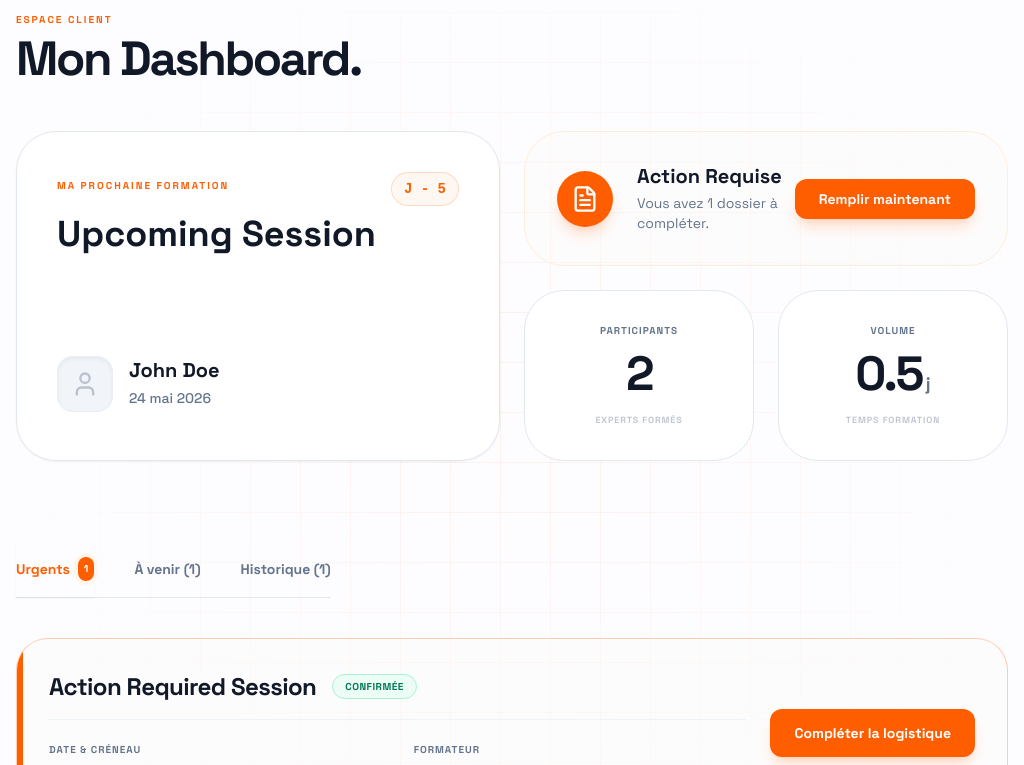
it: ClientDashboard › toggles tabs correctly
The image size is (1024, 765).
Switch to Upcoming tab
Click the tab "À venir (1)" at (168, 568), box [134,542,201,594]
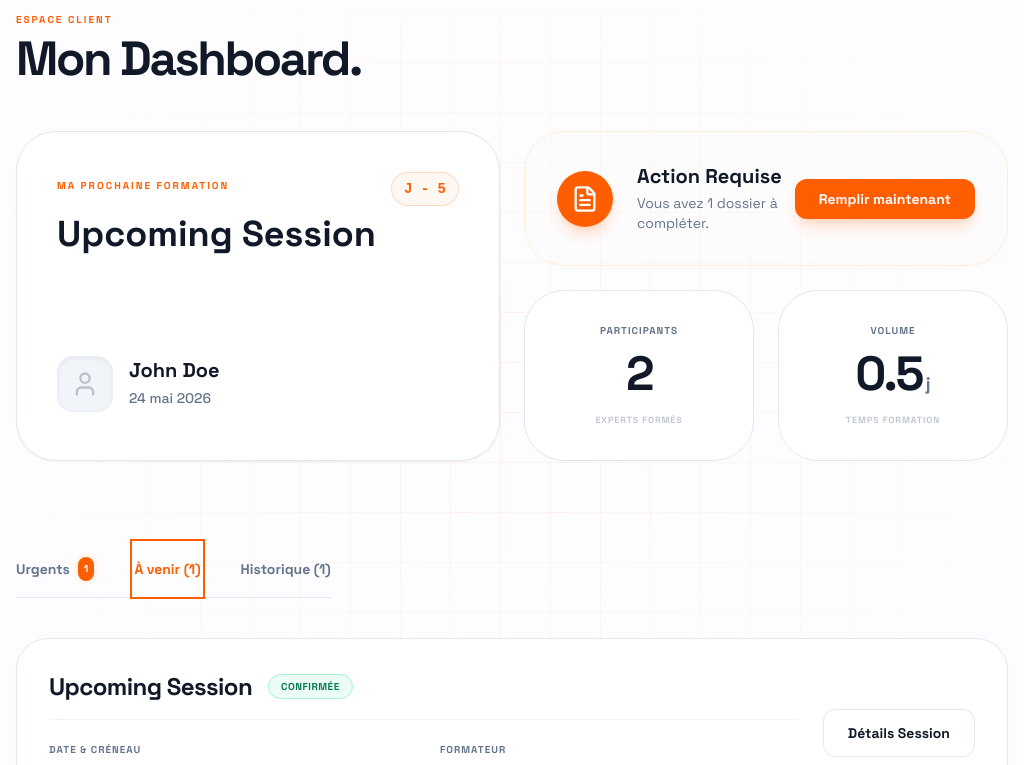
Check: the heading "Upcoming Session" below "Ma prochaine formation" is shown, box [57,211,376,257]
Switch to History tab
Click the tab "Historique (1)" at (286, 568), box [241,542,331,594]
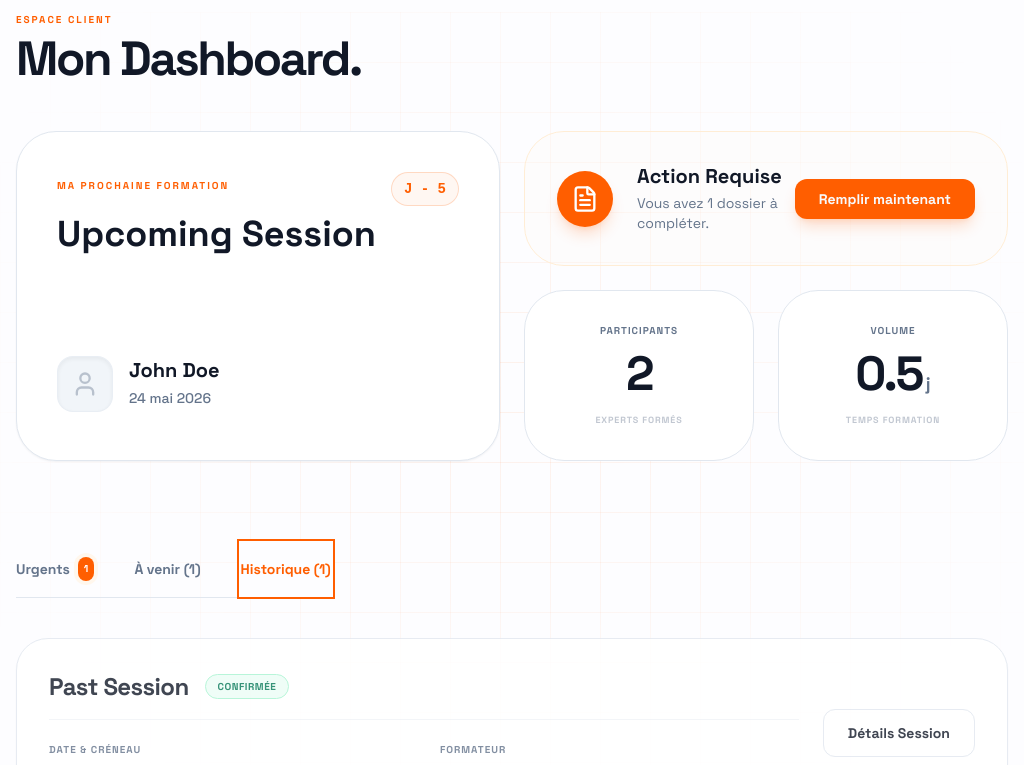
Check: the heading "Past Session" is shown, box [49,670,189,702]
